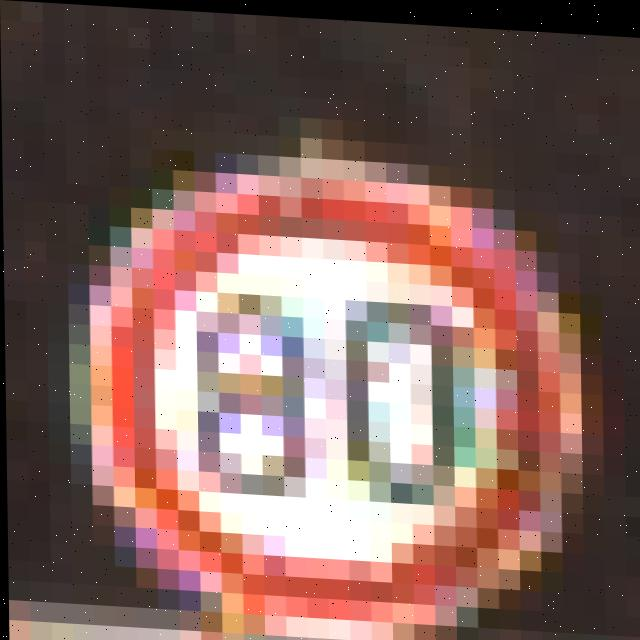speed_limit_80: (62, 152, 609, 640)
